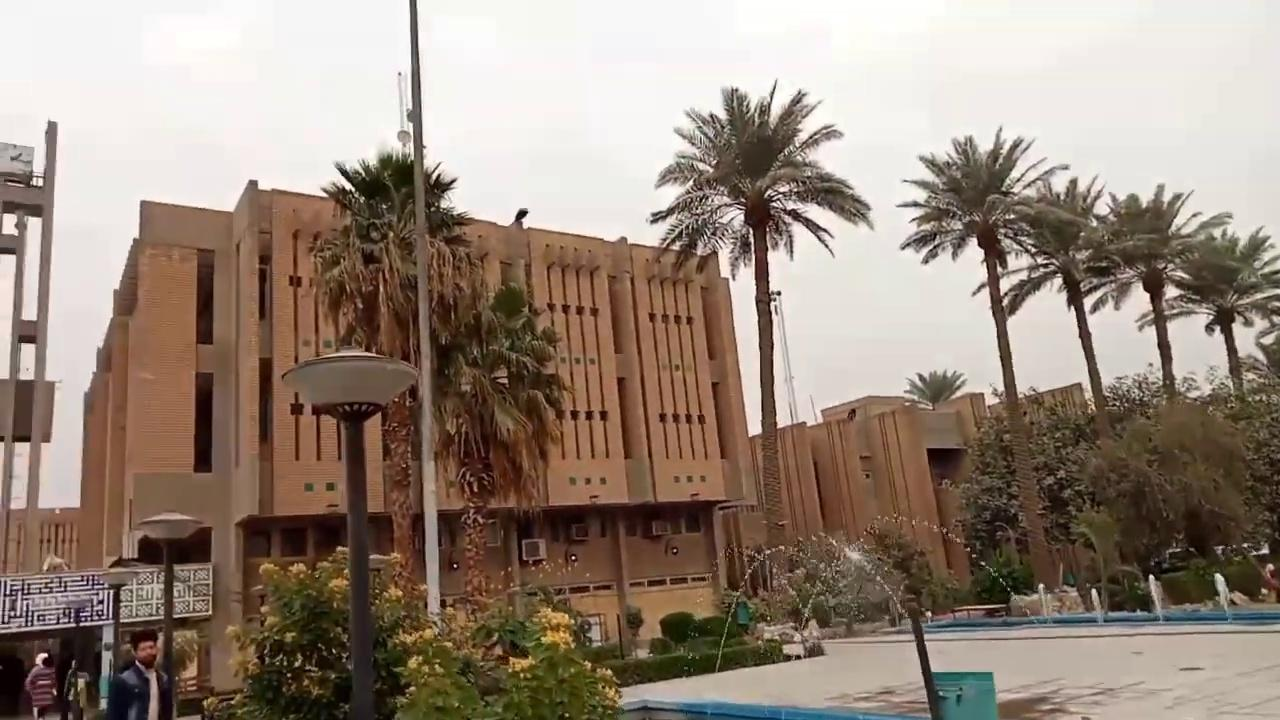fountain: (617, 538, 1278, 718), (900, 568, 1277, 633), (1212, 571, 1235, 622), (1146, 572, 1165, 621)
person: (105, 627, 173, 719), (24, 651, 58, 719)
tree: (896, 123, 1278, 607), (306, 148, 575, 627), (646, 77, 874, 609), (895, 124, 1069, 595), (428, 273, 575, 621), (1072, 396, 1250, 611), (998, 173, 1128, 439), (1081, 181, 1233, 400), (936, 391, 1092, 600), (1154, 222, 1279, 401), (903, 367, 966, 410)
